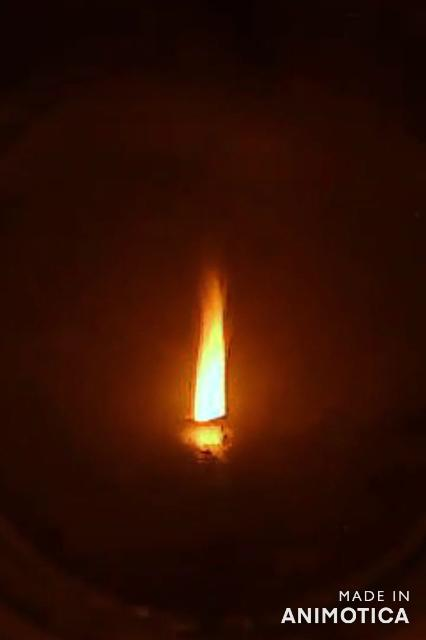burner flame: (191, 260, 231, 424)
